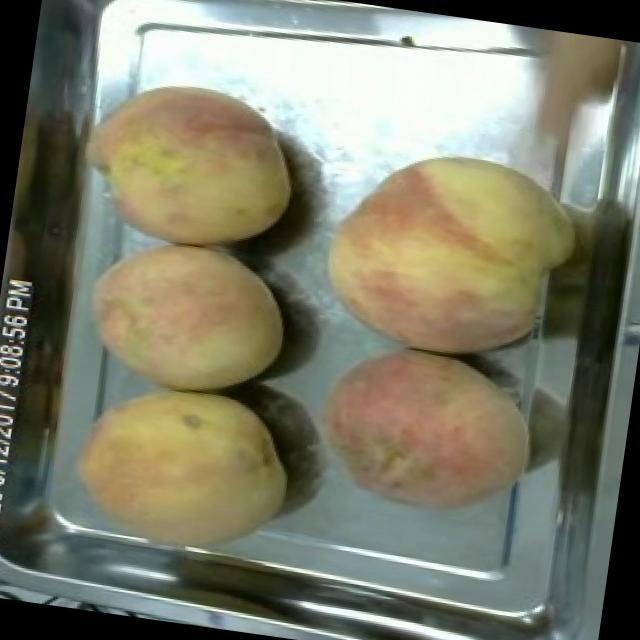Fruit: (302, 126, 592, 378), (51, 367, 312, 578), (66, 60, 317, 268), (298, 327, 550, 530), (67, 223, 307, 406)
